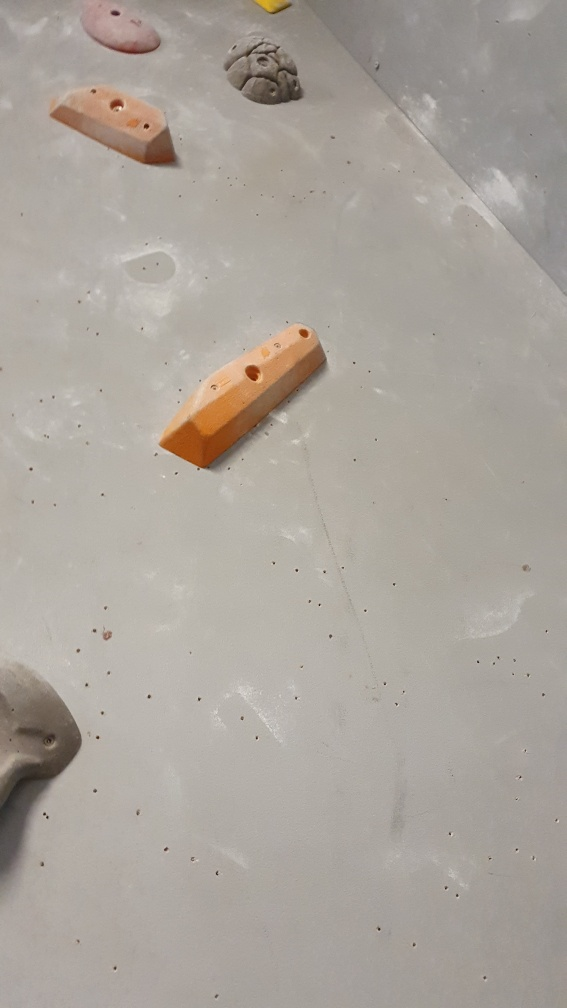Jug: (224, 31, 310, 112)
Pinch: (155, 317, 327, 475), (47, 81, 178, 174)
